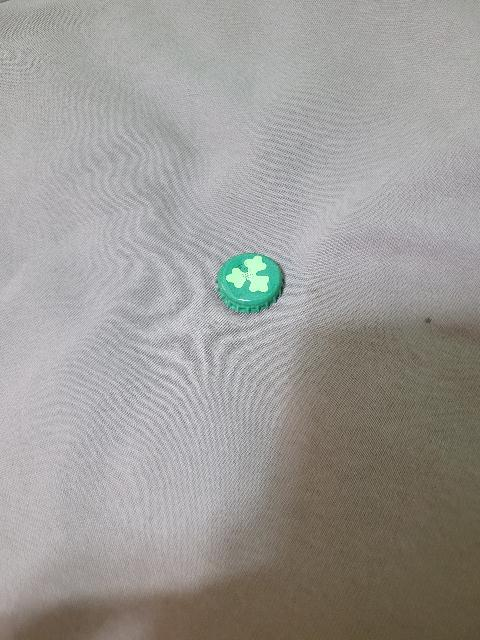Metal: (213, 251, 288, 316)
